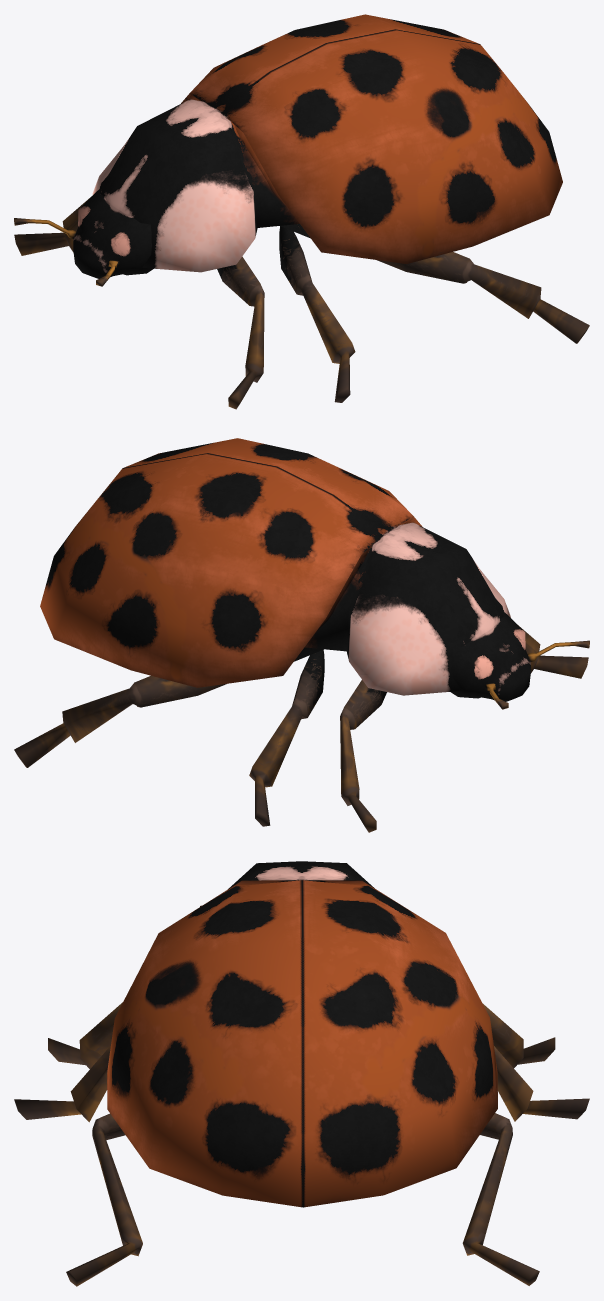
Rendered from cocinnelle.glb.
3 renders of one model, top to bottom at view 1: azimuth 30°, elevation 25°; view 2: azimuth 150°, elevation 25°; view 3: azimuth 270°, elevation 25°, orthographic. The views are drawn at different scales.
Parts seen in each view (by area): view 1: Cube; view 2: Cube; view 3: Cube.
Part boxes in pixels (x1=…): Cube: x1=14, y1=14, x2=589, y2=409; Cube: x1=14, y1=438, x2=589, y2=832; Cube: x1=14, y1=861, x2=589, y2=1286.
Size of the model in its own units: 0.0138 by 0.00714 by 0.0122.
1 material, 1 textured.
